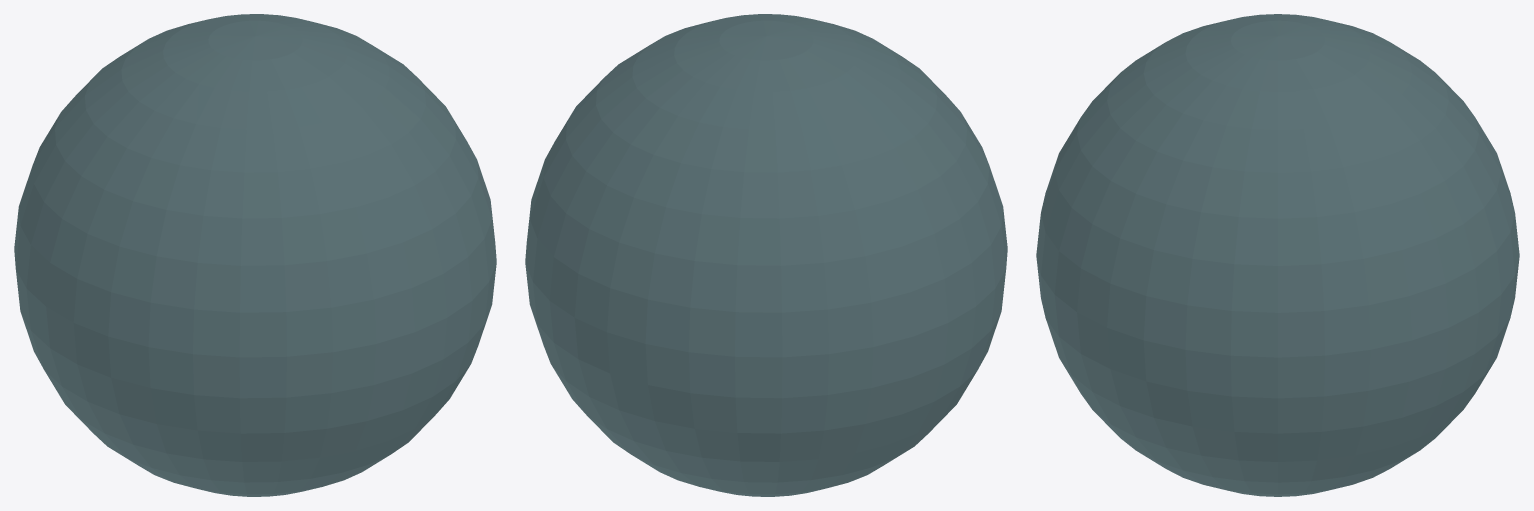
File: war-of-worlds-b.glb
3 views of the same model, side by side, from view 1: azimuth 30°, elevation 25°; view 2: azimuth 150°, elevation 25°; view 3: azimuth 270°, elevation 25° (orthographic).
Parts seen in each view (by area): view 1: Sphere; view 2: Sphere; view 3: Sphere.
Part boxes in pixels (<box>): Sphere: <box>14,14,496,496</box>; Sphere: <box>525,14,1007,496</box>; Sphere: <box>1036,14,1519,496</box>.
Bounding box in the file's own units: 47.87 × 47.87 × 47.87.
